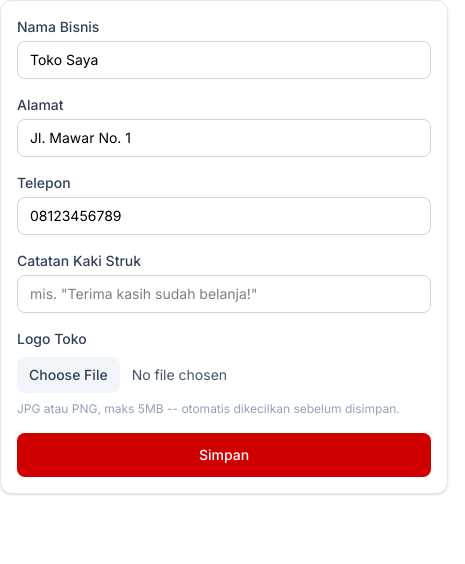
it: StoreSettingsPage › edit & simpan -- manggil updateStoreSettings dengan isi form, tampilin "Tersimpan."
Replace the text in the field labelled "Nama Bisnis" with "Toko Baru" at (224, 60), box [17,41,431,79]
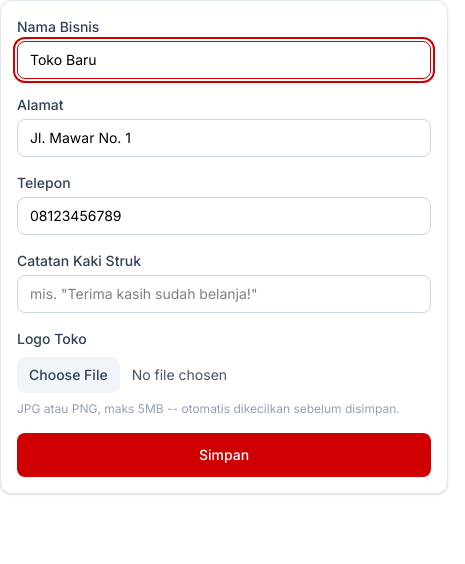
Click the button "Simpan".
click(224, 455)  # box [17,433,431,477]
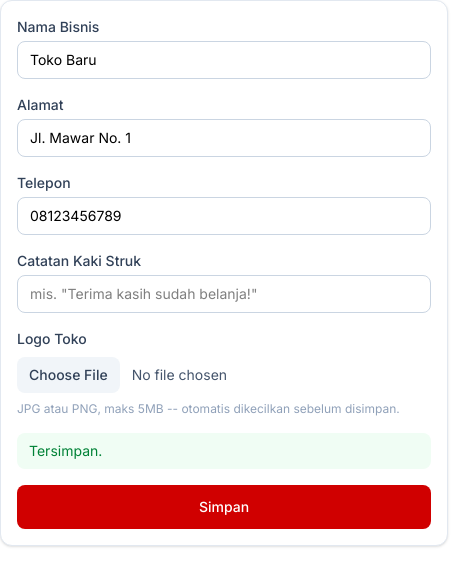
Check: the text "Tersimpan." is shown, box [17,433,431,469]
